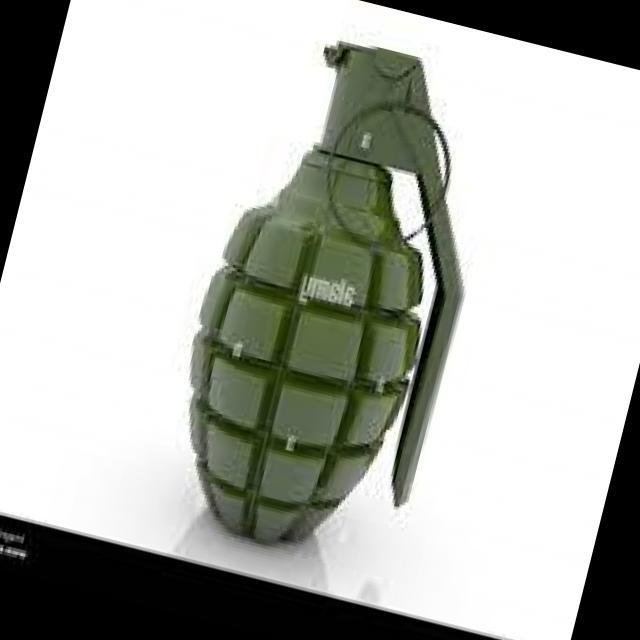grenade: (142, 29, 510, 594)
